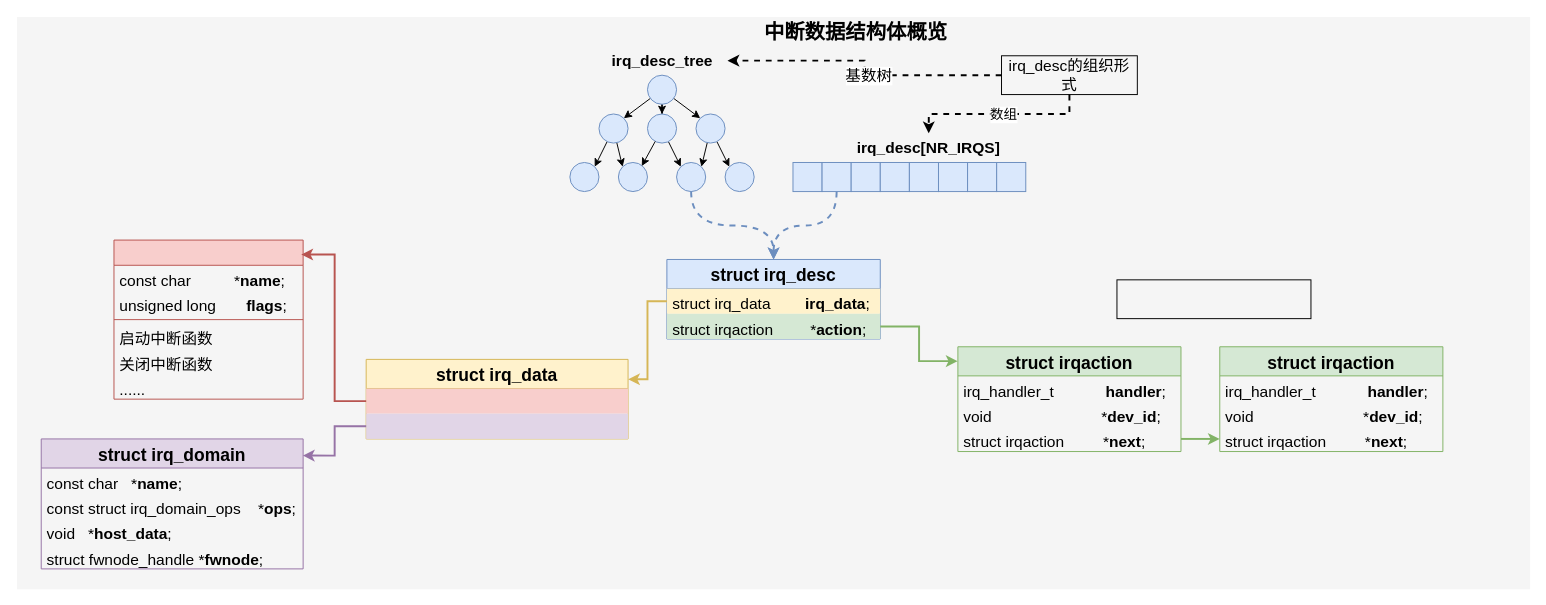
This 1546x605 diagram has some shape labels left out. Here are the shapes that lost their labels. From the top down, the box of each, then its label:
(113, 239, 303, 399): struct irq_chip
(1116, 279, 1311, 319): 每个注册的中断服务都会链接到 action链表
(366, 388, 628, 413): struct irq_chip * chip ;
(366, 413, 628, 438): struct irq_domain * domain ;
